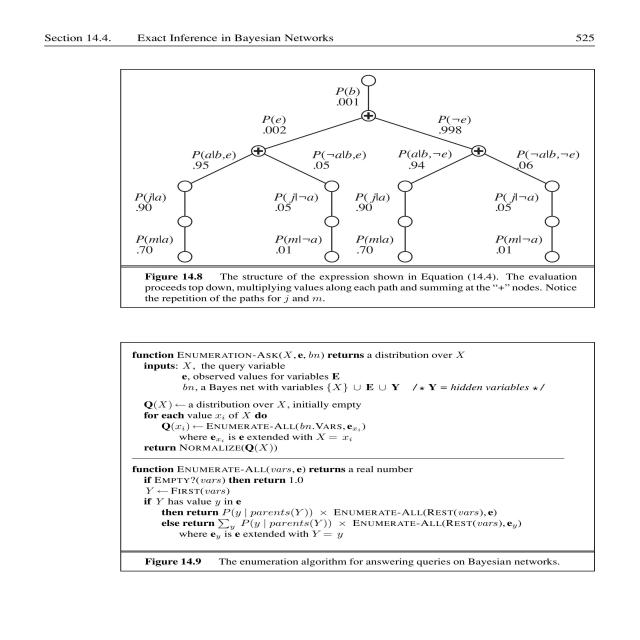diagram: (80, 58, 640, 330)
